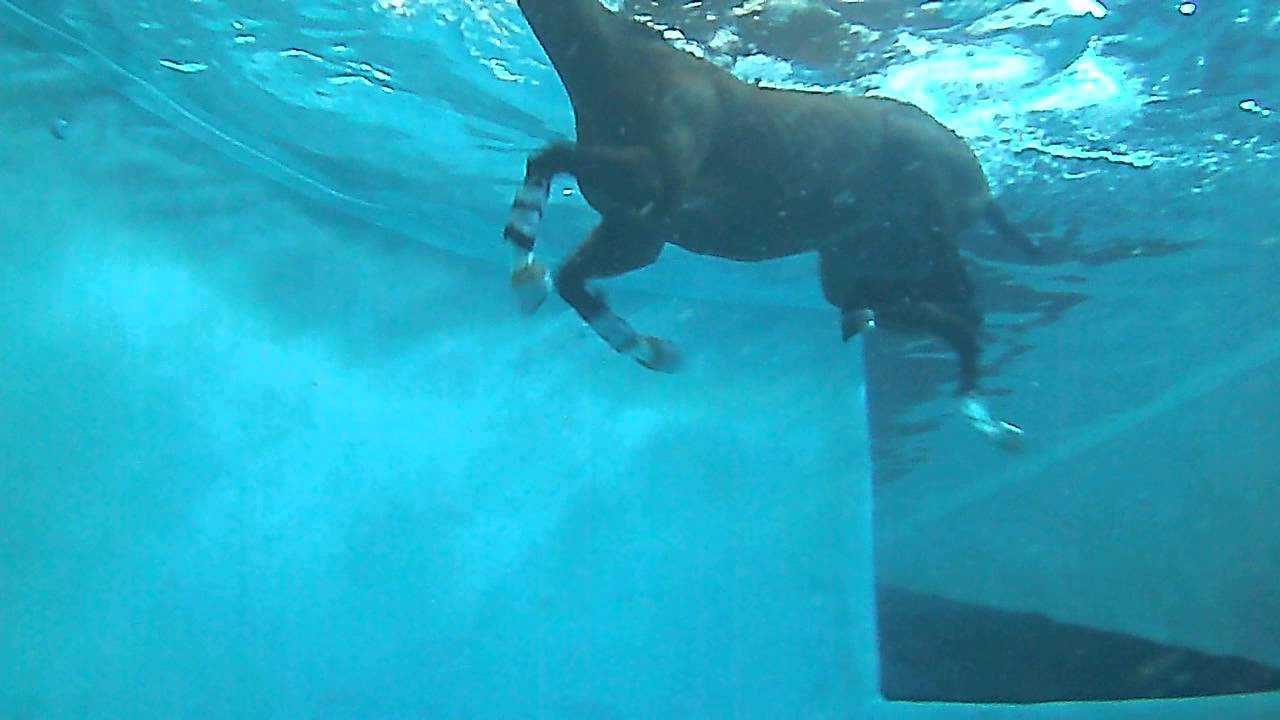Horse: (347, 36, 1110, 455)
